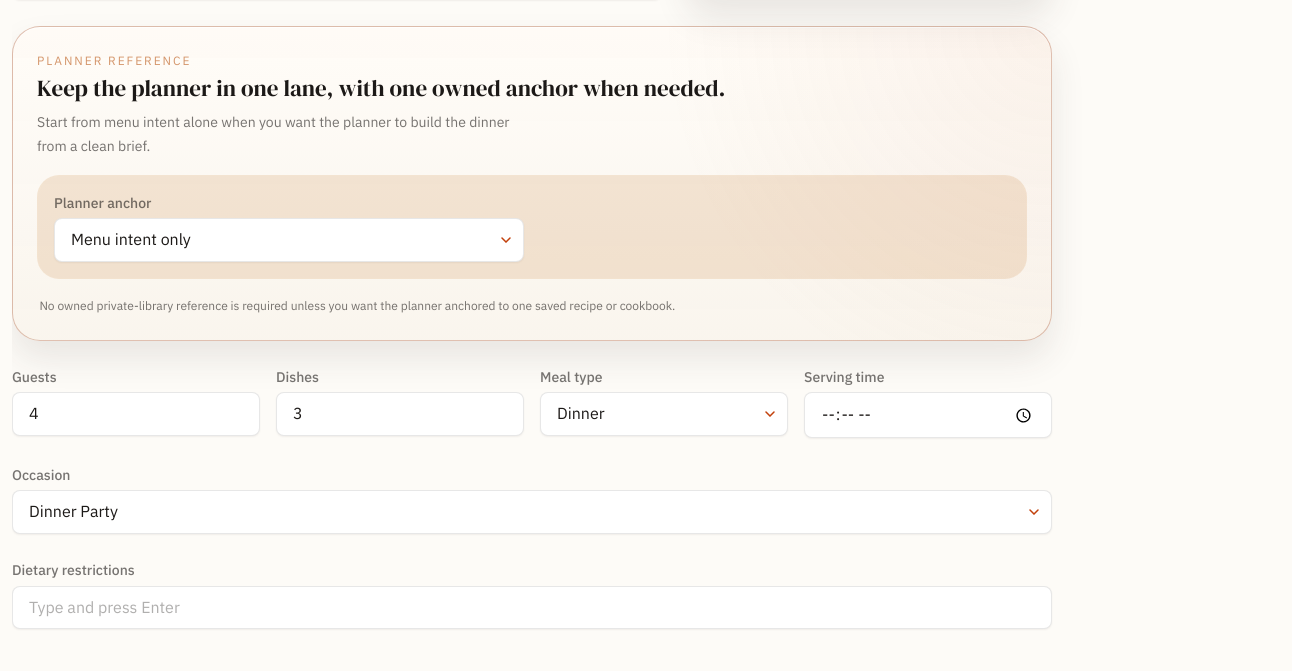
NewSessionPage › adds and removes dietary restrictions
(page scrolled)
In the field labelled "Dietary restrictions": (532, 607) [12,586,1052,629], type "gluten-free"
Then press Enter
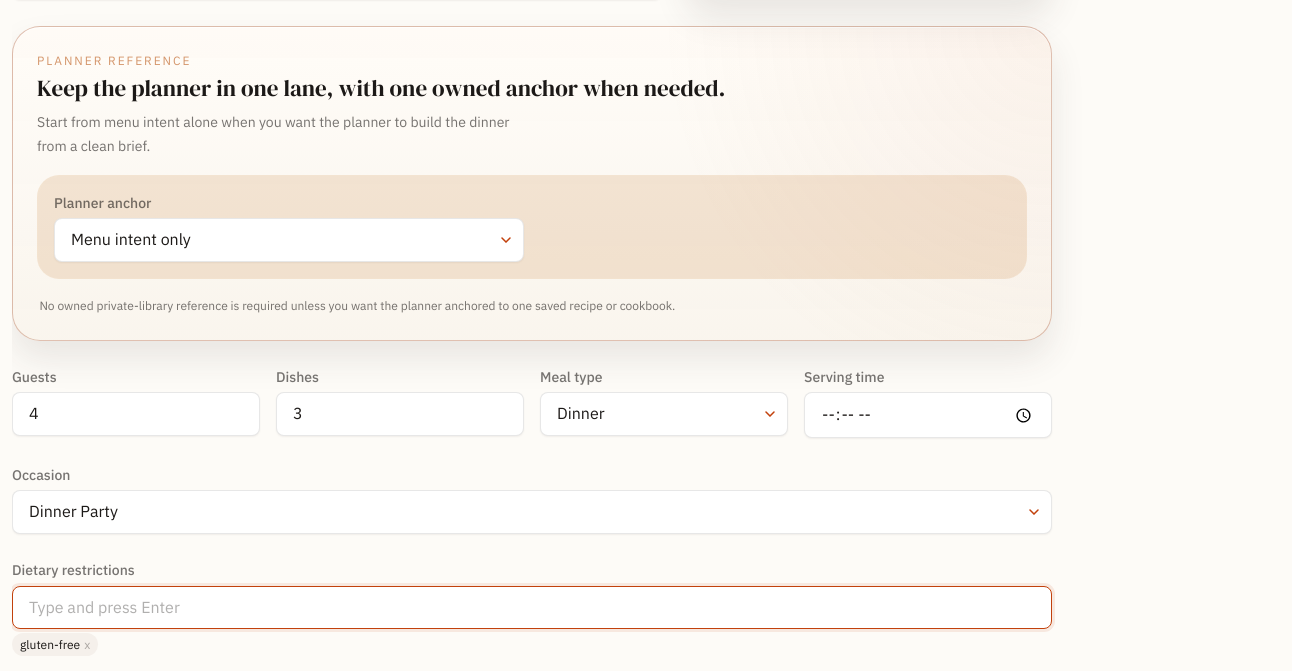
Result: the text "gluten-free" is shown at [20,637,80,652]
In the field labelled "Dietary restrictions": (532, 607) [12,586,1052,629], type "dairy-free"
Then press Enter
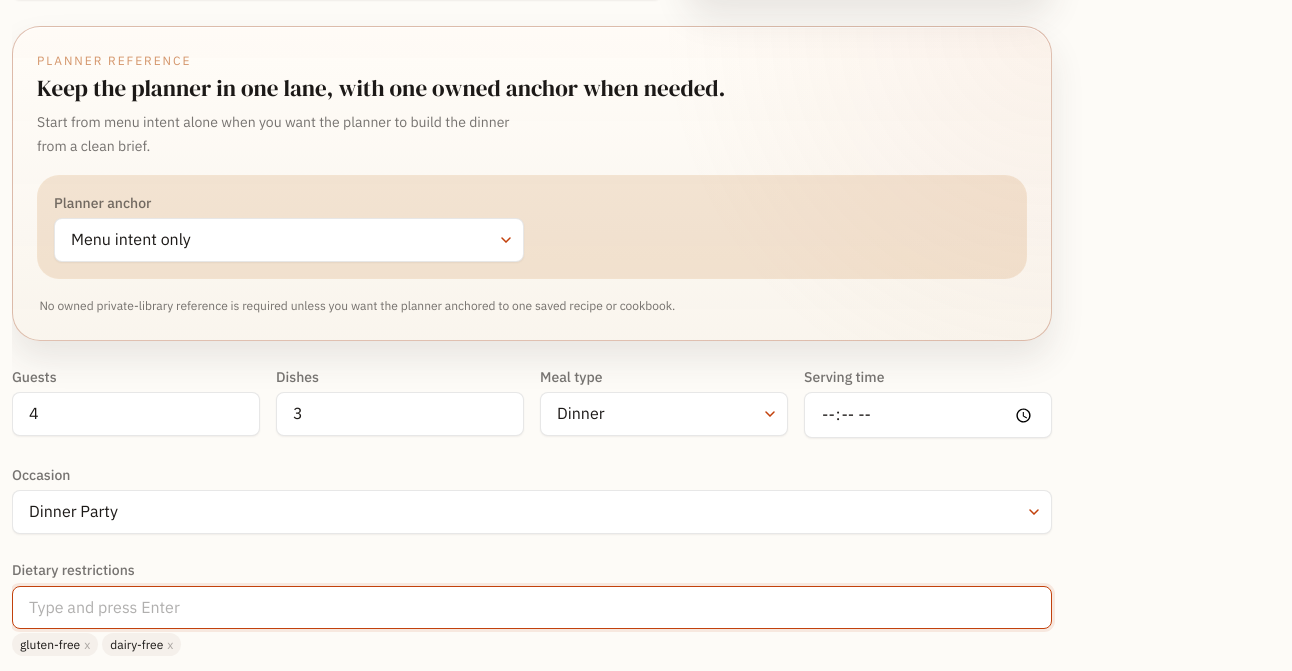
Result: the text "dairy-free" is shown at [110,637,163,652]
Click the button named "Remove gluten-free": (87, 645) [84,639,90,651]
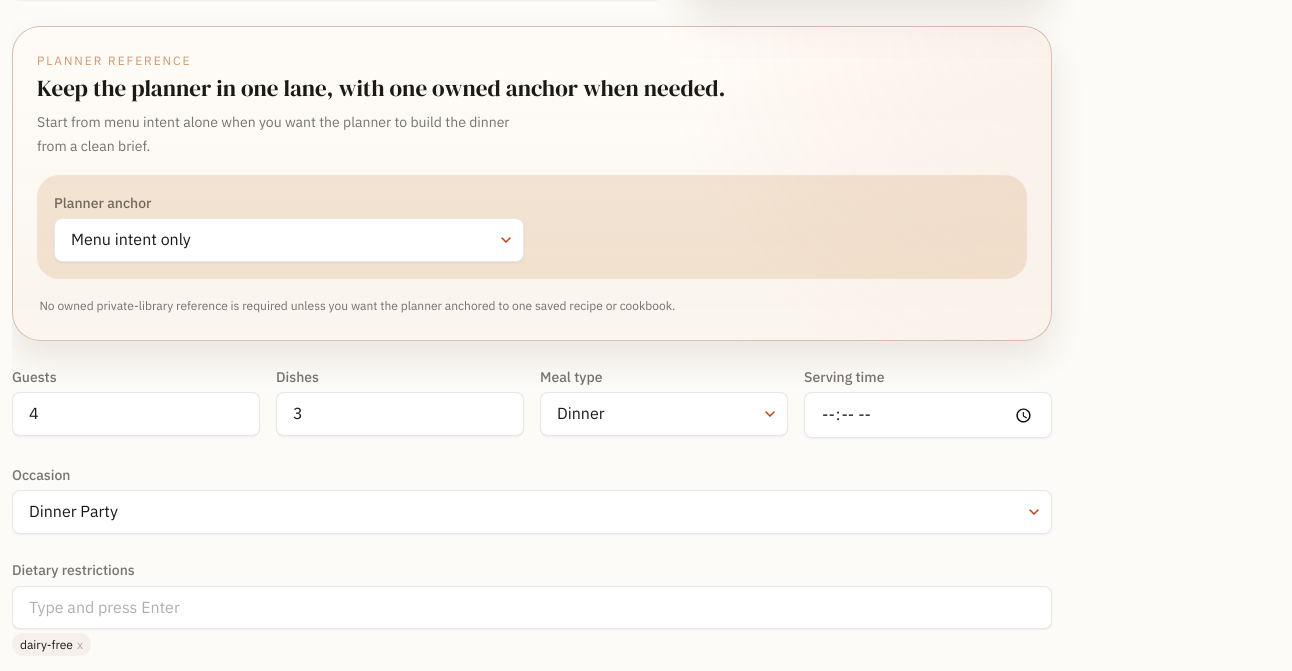
Result: the text "dairy-free" is shown at [20,637,73,652]
Result: the text "gluten-free" is gone
